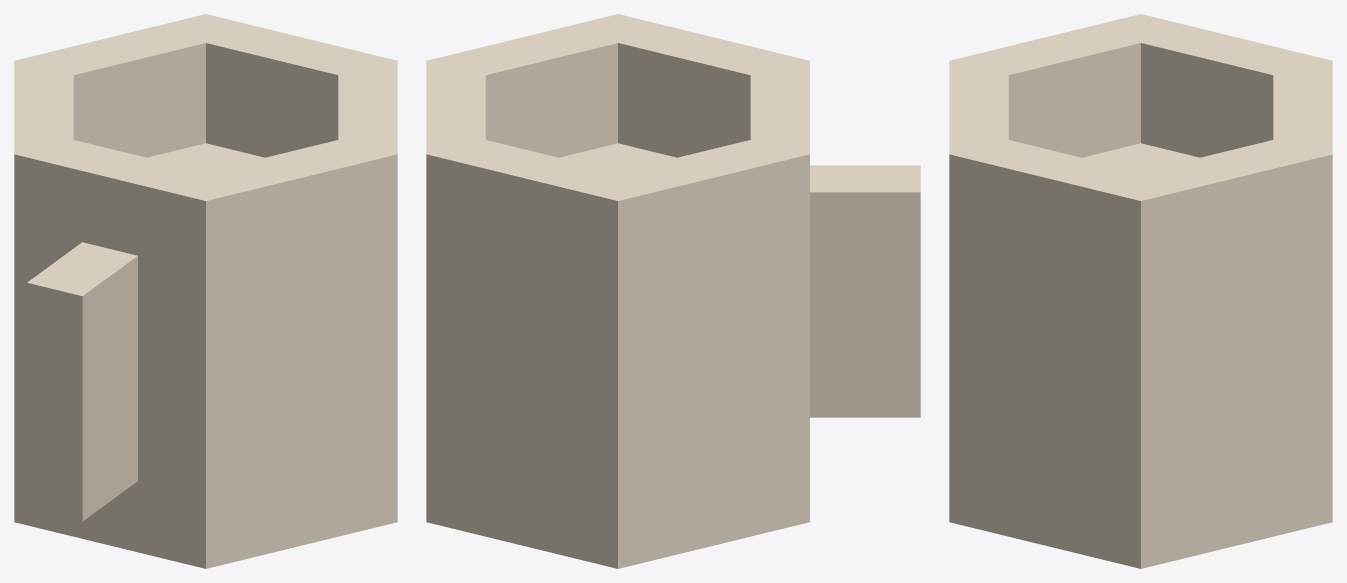
3 renders of one model, left to right at view 1: azimuth 30°, elevation 25°; view 2: azimuth 150°, elevation 25°; view 3: azimuth 270°, elevation 25°, orthographic.
Parts seen in each view (by area): view 1: tea-cup-ceramic; view 2: tea-cup-ceramic; view 3: tea-cup-ceramic.
Part boxes in pixels (bbox=[...]): tea-cup-ceramic: bbox=[14, 14, 397, 568]; tea-cup-ceramic: bbox=[426, 14, 920, 568]; tea-cup-ceramic: bbox=[949, 14, 1332, 568].
Bounding box in the file's own units: 0.0988 × 0.0803 × 0.0759.
